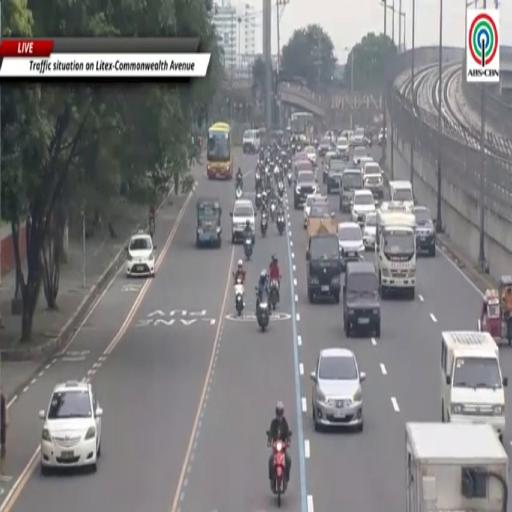bus: (206, 122, 233, 179), (291, 112, 314, 143)
car: (39, 381, 103, 473), (310, 348, 365, 430), (343, 262, 380, 338), (126, 231, 156, 277), (338, 222, 365, 271), (230, 199, 255, 243), (414, 206, 435, 257), (339, 168, 363, 212), (294, 171, 317, 209), (351, 189, 375, 225), (363, 160, 383, 199), (326, 158, 346, 195), (309, 195, 331, 220), (322, 150, 338, 184), (363, 213, 376, 248), (303, 195, 315, 228), (243, 130, 260, 153), (292, 152, 309, 173), (353, 146, 368, 165), (336, 137, 349, 158), (295, 160, 314, 174), (304, 146, 317, 166), (319, 137, 332, 156), (352, 128, 365, 147), (358, 156, 374, 171), (378, 128, 386, 145), (342, 131, 353, 143)
motorcycle: (268, 439, 290, 507), (256, 297, 269, 331), (235, 278, 244, 315), (270, 280, 279, 310), (243, 237, 253, 261), (277, 213, 285, 235), (261, 211, 267, 237), (270, 200, 276, 221), (255, 191, 261, 209), (255, 171, 261, 188), (278, 181, 284, 197), (274, 165, 279, 182), (236, 186, 242, 200), (236, 178, 243, 189), (288, 171, 292, 186)
truck: (406, 423, 508, 511), (376, 202, 416, 299), (306, 218, 341, 303), (196, 198, 221, 248)
